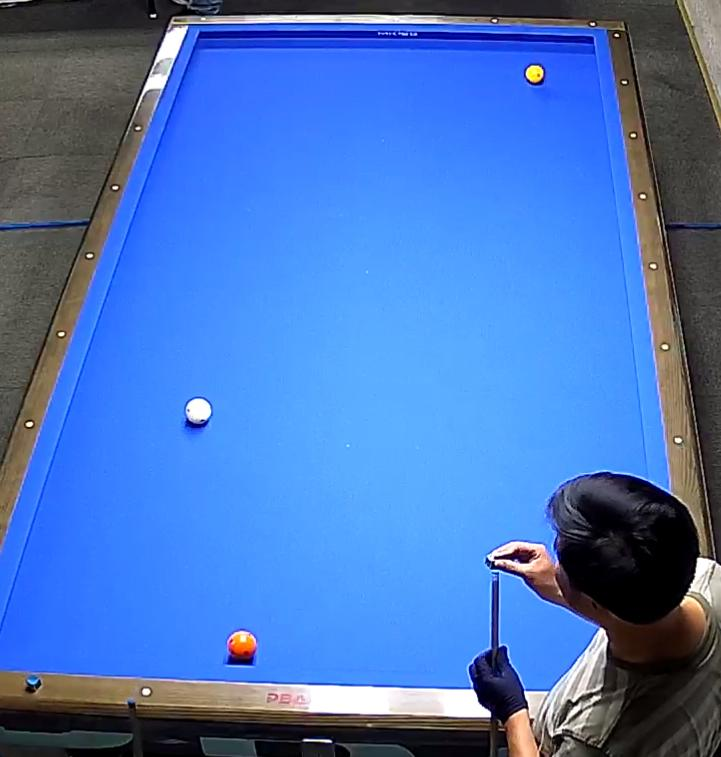orange ball: (219, 625, 263, 665)
white ball: (183, 395, 215, 431)
yellow ball: (523, 61, 548, 93)
